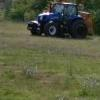Tractor: (24, 1, 88, 46)
